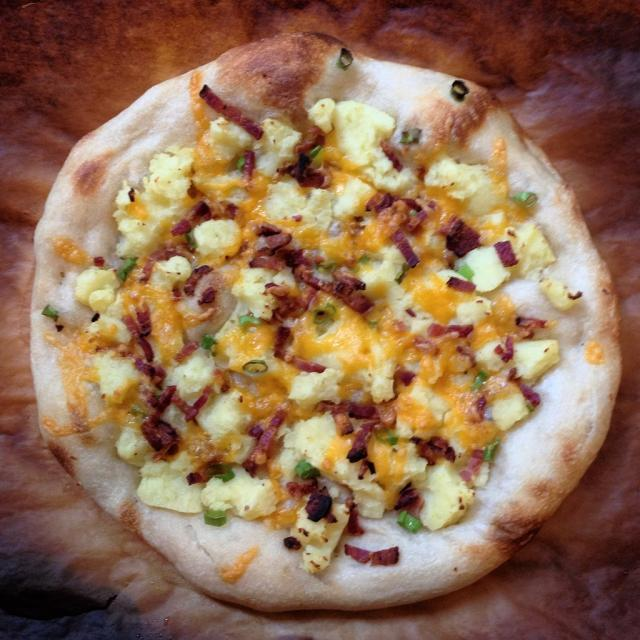Pizza: (9, 42, 639, 620)
